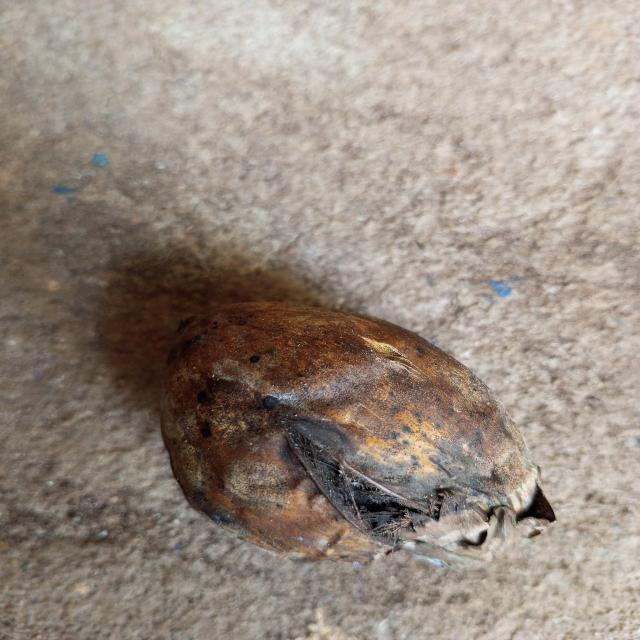damaged: (162, 303, 554, 559)
